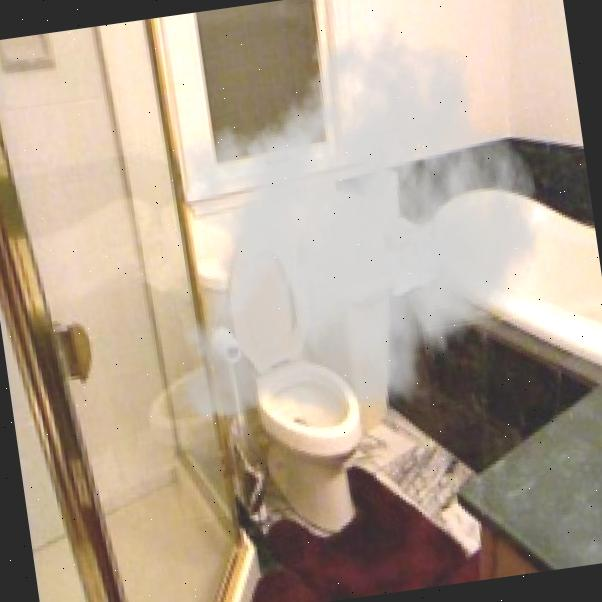smoke: (118, 0, 567, 451)
